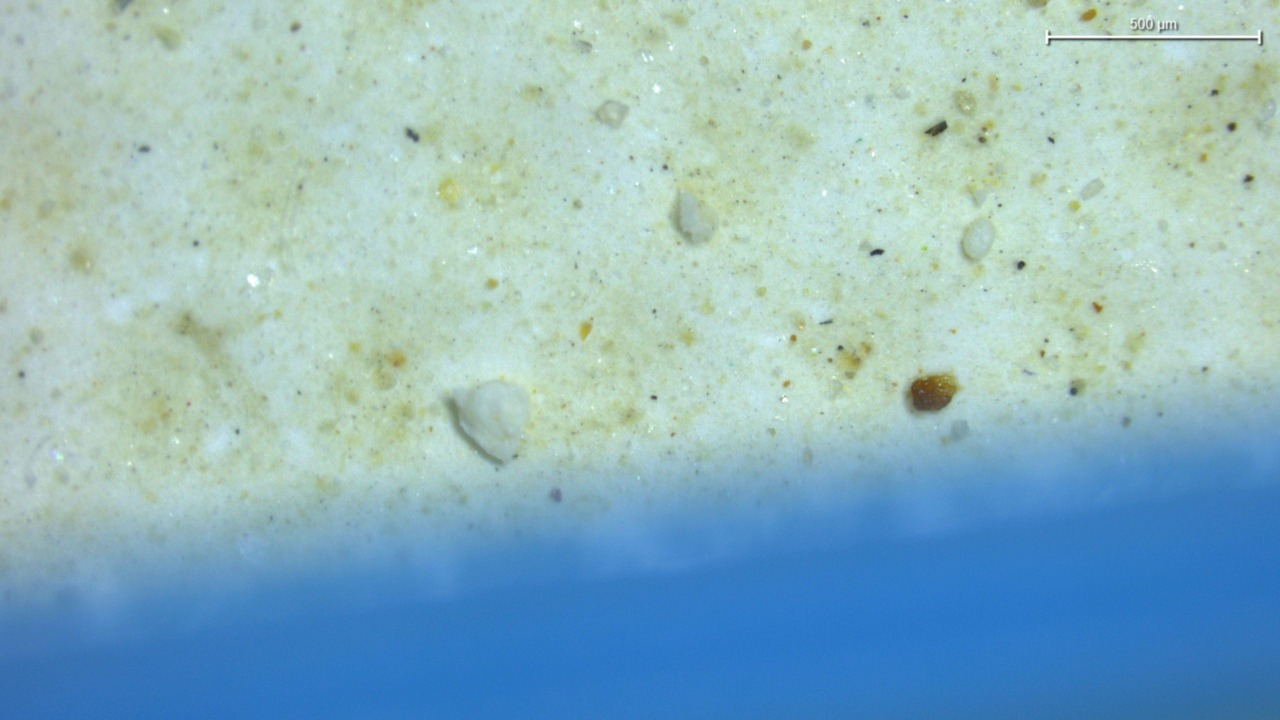microplastic_fragment: (451, 380, 528, 463), (672, 189, 716, 244), (961, 218, 995, 260)
